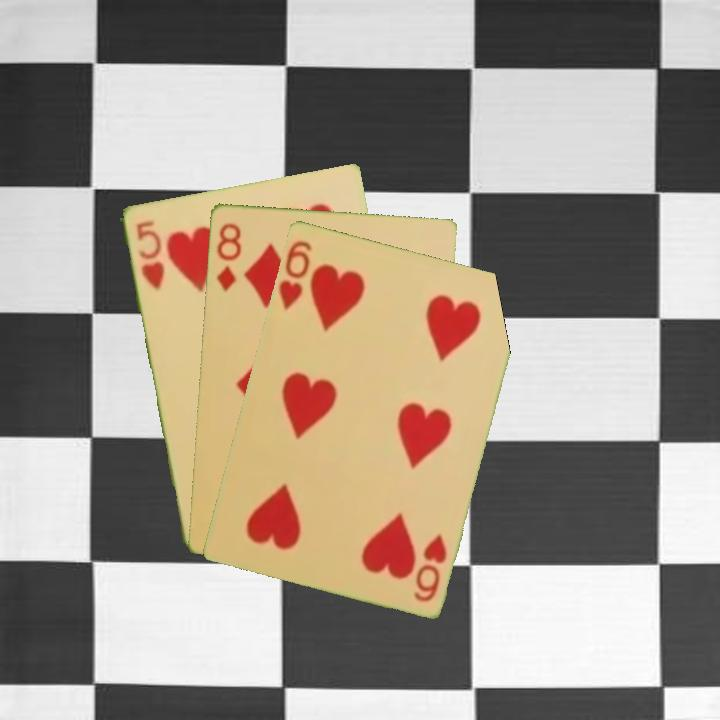5h: (132, 217, 167, 292)
6h: (274, 236, 315, 312), (409, 530, 450, 605)
8d: (212, 219, 244, 294)
